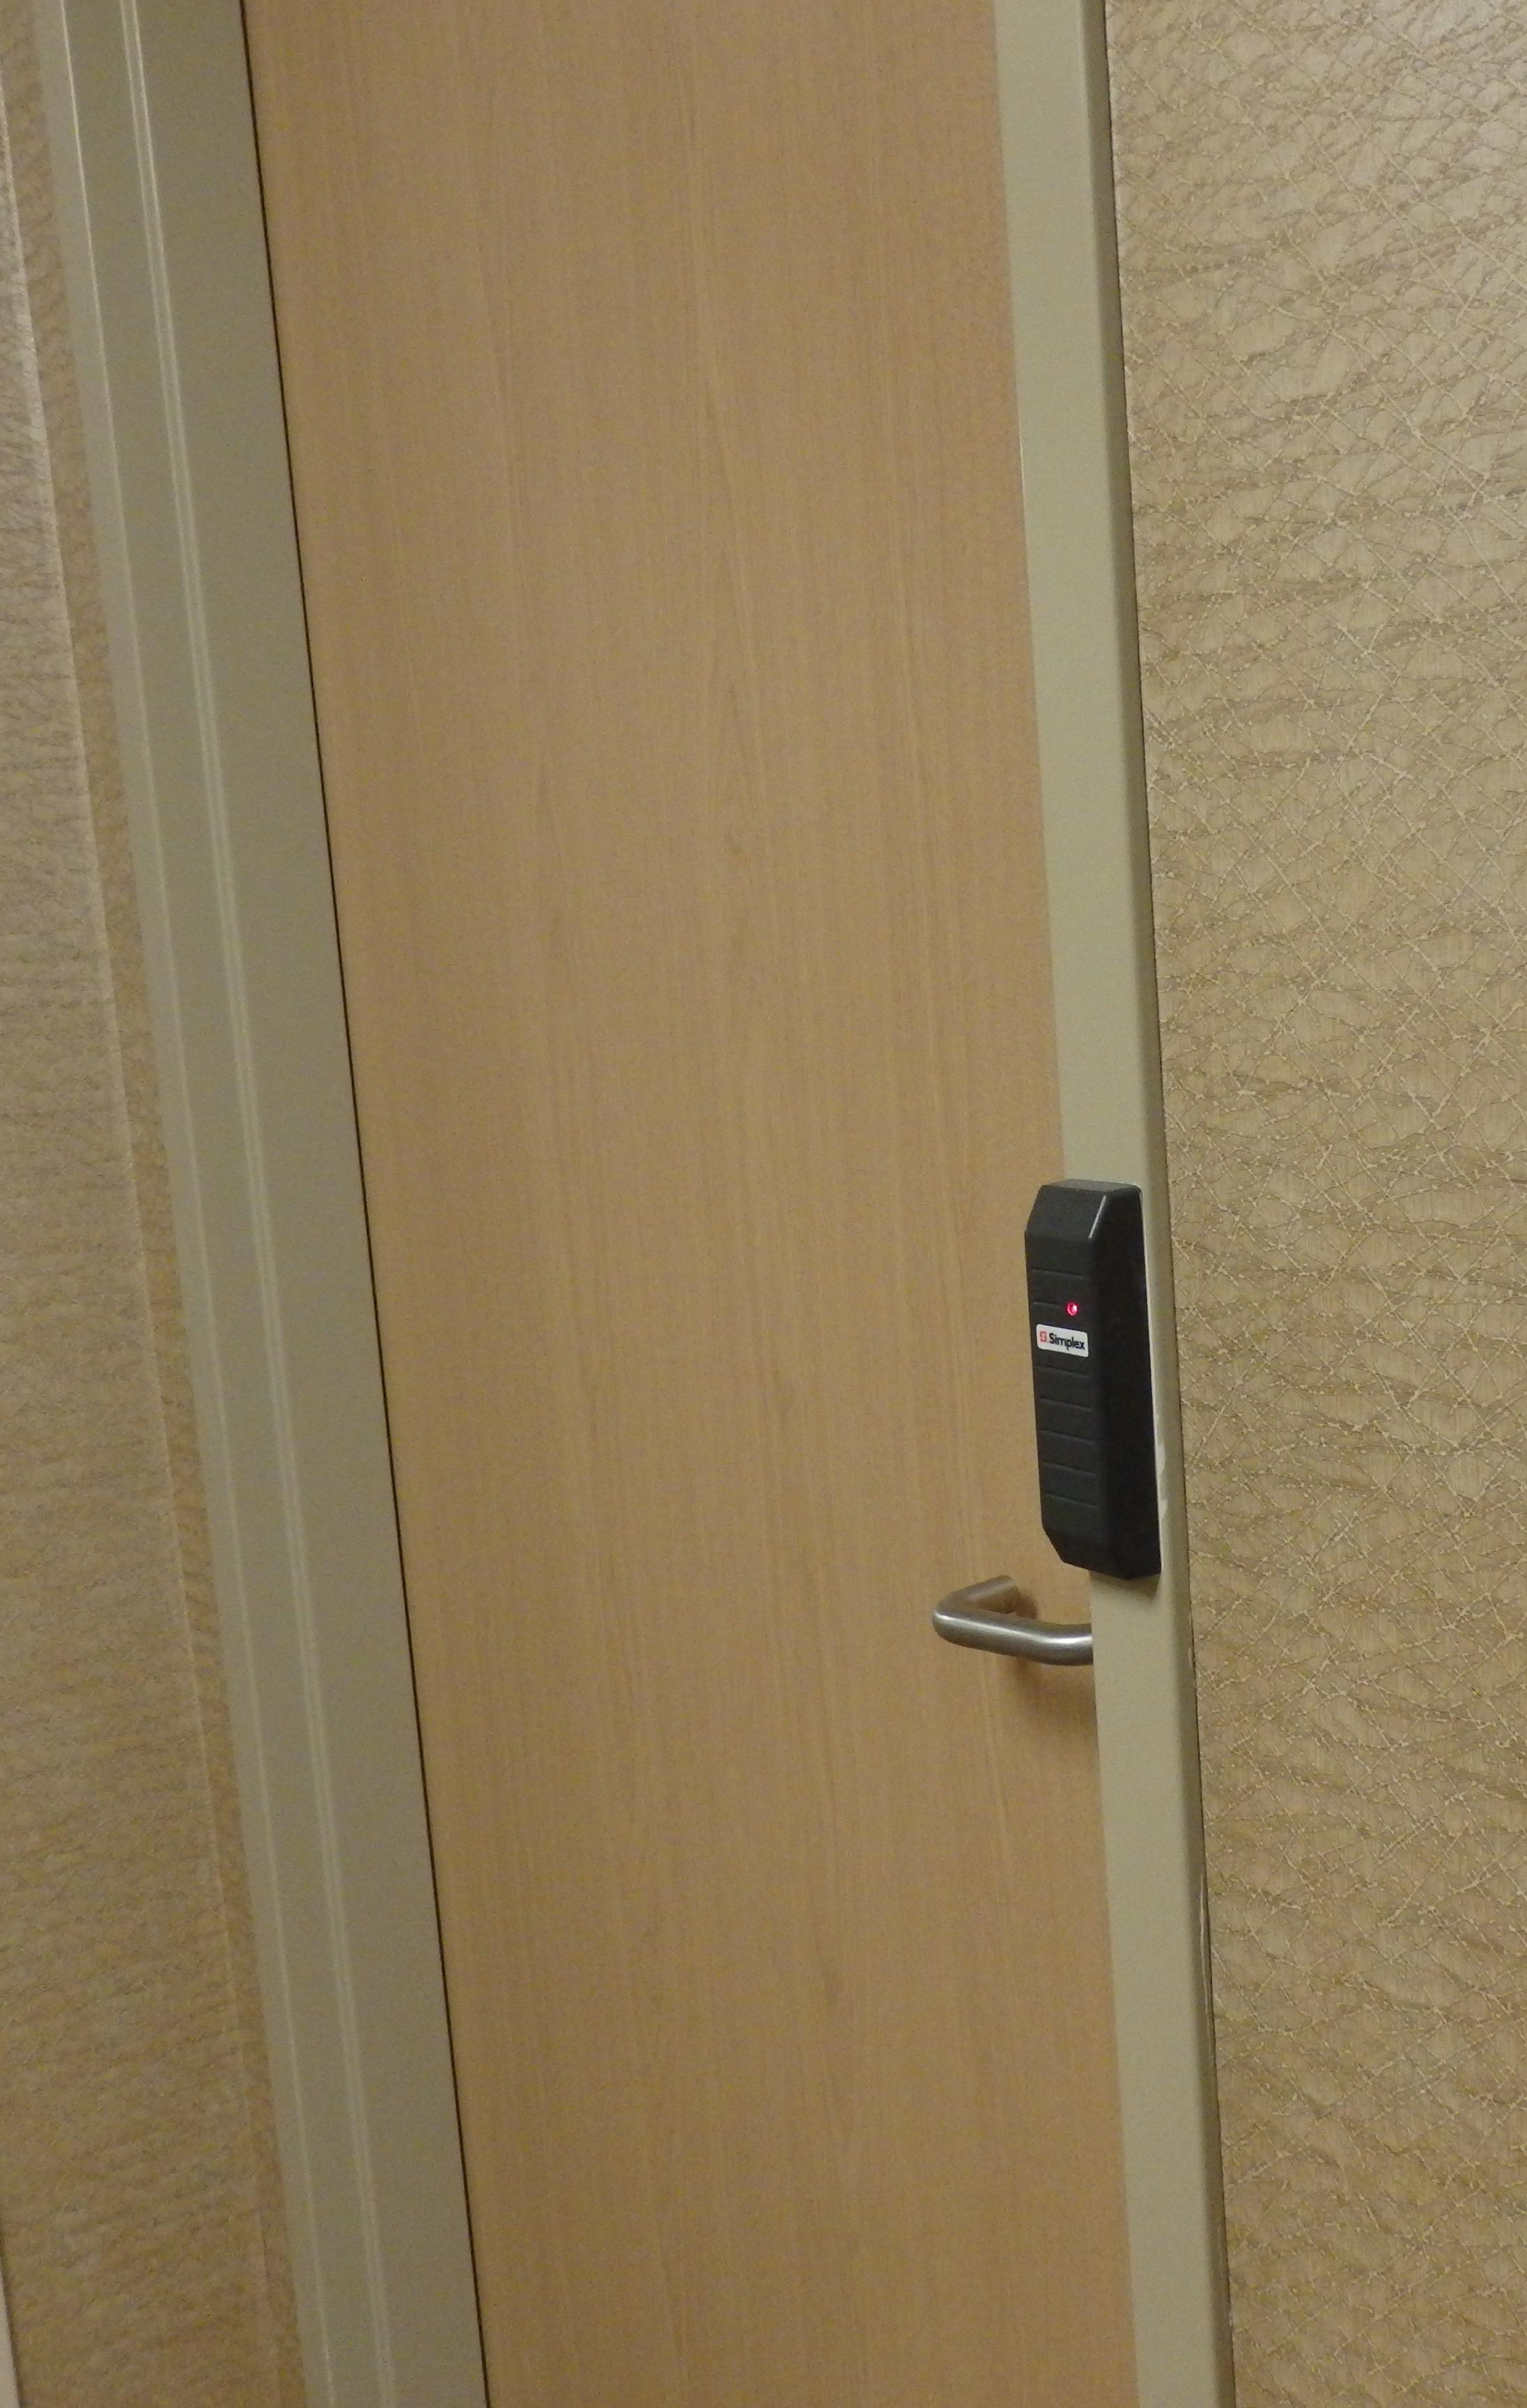door: (211, 7, 1190, 2408)
